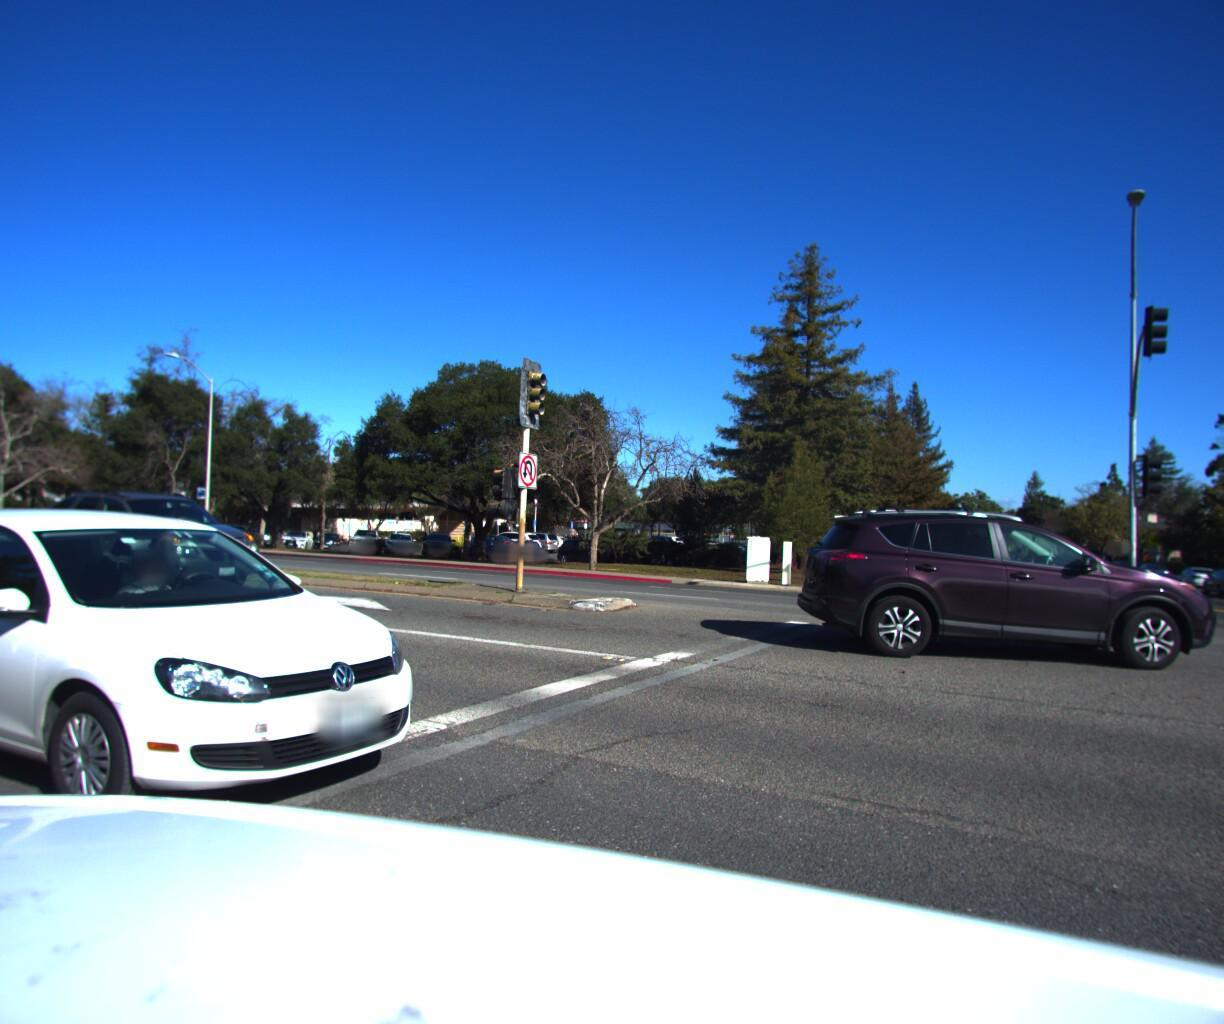car: (0, 496, 469, 892), (781, 496, 1224, 671), (11, 476, 282, 600), (1168, 556, 1224, 586), (1129, 553, 1174, 579), (1197, 559, 1224, 595), (1100, 551, 1138, 573), (0, 504, 5, 534)
